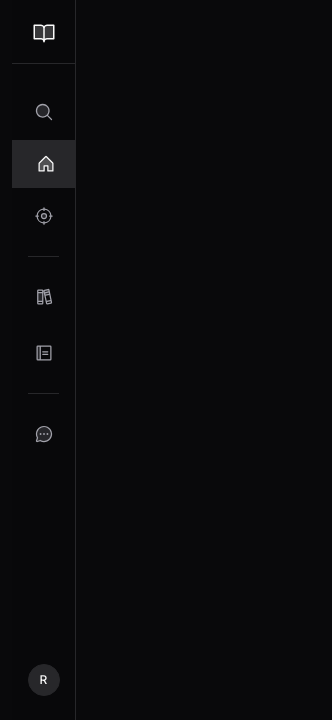
Test: app navigation › opens the Library submenu even before reading progress finishes loading
Hover over the element showing "R" at (44, 360), box [12, 0, 76, 719]
Wait 300 ms
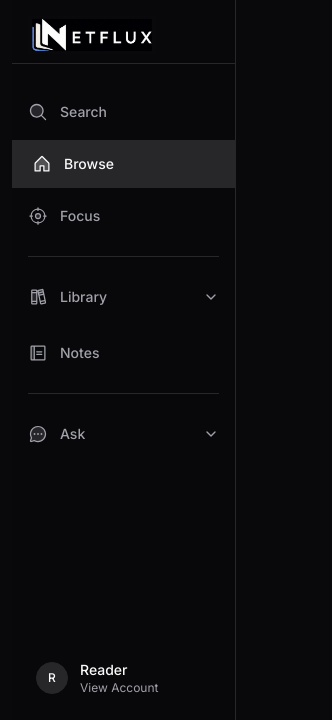
Click the button "Library" at (124, 297), box [12, 273, 235, 321]
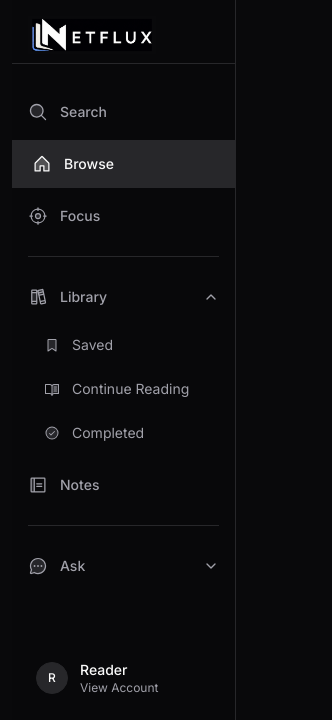
Result: the button "Library" is expanded at [12, 273, 235, 321]
Result: the link "Saved" is shown at [44, 336, 113, 353]
Result: the link "Continue Reading" is shown at [44, 380, 189, 397]
